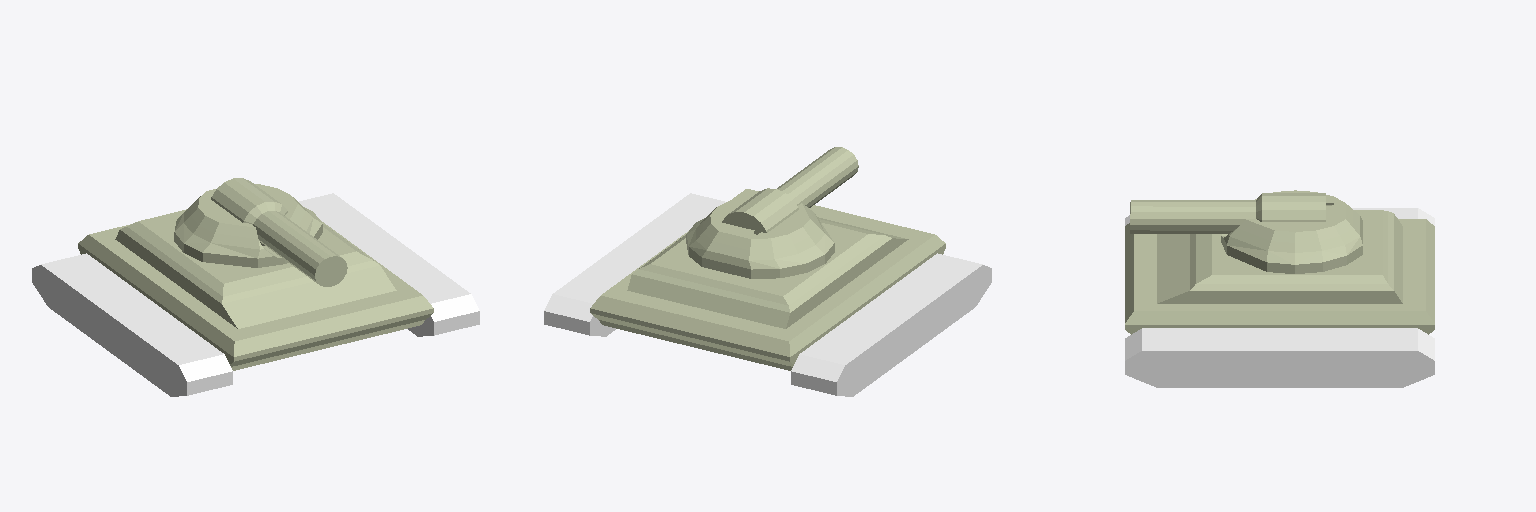
Rendered from tank.obj.
3 renders of one model, left to right at view 1: azimuth 30°, elevation 25°; view 2: azimuth 150°, elevation 25°; view 3: azimuth 270°, elevation 25°, orthographic.
Parts seen in each view (by area): view 1: Cube2, Cube1, Cylinder4_s_Cylinder4_sep8, Cylinder4_copy5; view 2: Cube2, Cube1, Cylinder4_s_Cylinder4_sep8, Cylinder4_copy5; view 3: Cube2, Cube1, Cylinder4_s_Cylinder4_sep8, Cylinder4_copy5.
Part boxes in pixels (bbox=[...]): Cube2: bbox=[78, 209, 433, 370]; Cube1: bbox=[32, 193, 479, 396]; Cylinder4_s_Cylinder4_sep8: bbox=[174, 184, 322, 267]; Cylinder4_copy5: bbox=[211, 178, 347, 286]; Cube2: bbox=[590, 189, 945, 370]; Cube1: bbox=[544, 193, 991, 396]; Cylinder4_s_Cylinder4_sep8: bbox=[686, 197, 834, 278]; Cylinder4_copy5: bbox=[722, 147, 858, 234]; Cube2: bbox=[1125, 210, 1434, 334]; Cube1: bbox=[1125, 208, 1434, 387]; Cylinder4_s_Cylinder4_sep8: bbox=[1221, 190, 1362, 273]; Cylinder4_copy5: bbox=[1130, 193, 1325, 233].
Bounding box in the file's own units: 2.17 × 0.8571 × 2.